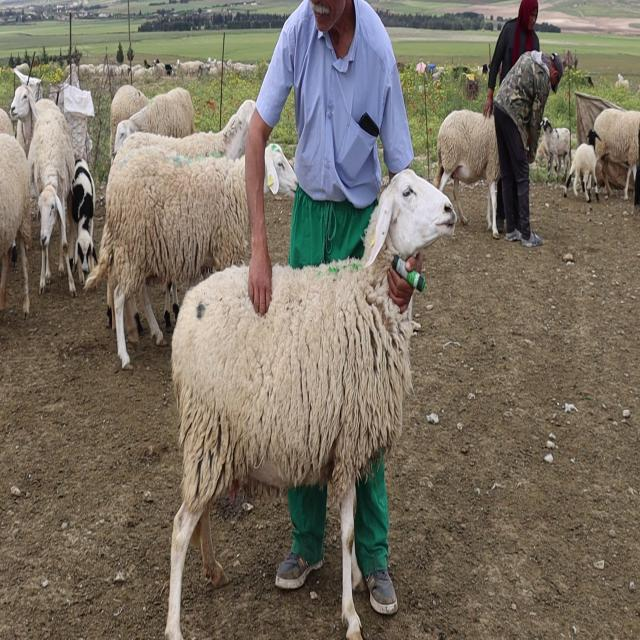Score_5: (165, 169, 456, 639)
